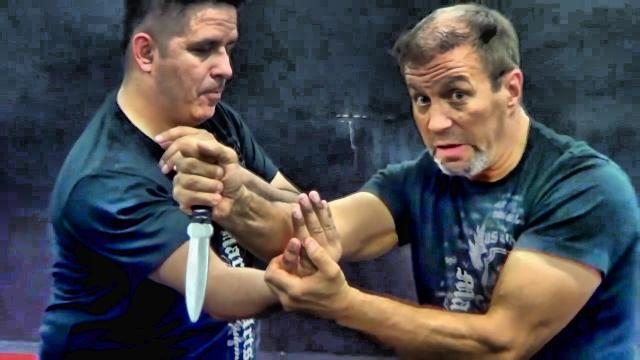knife: (166, 138, 234, 327)
